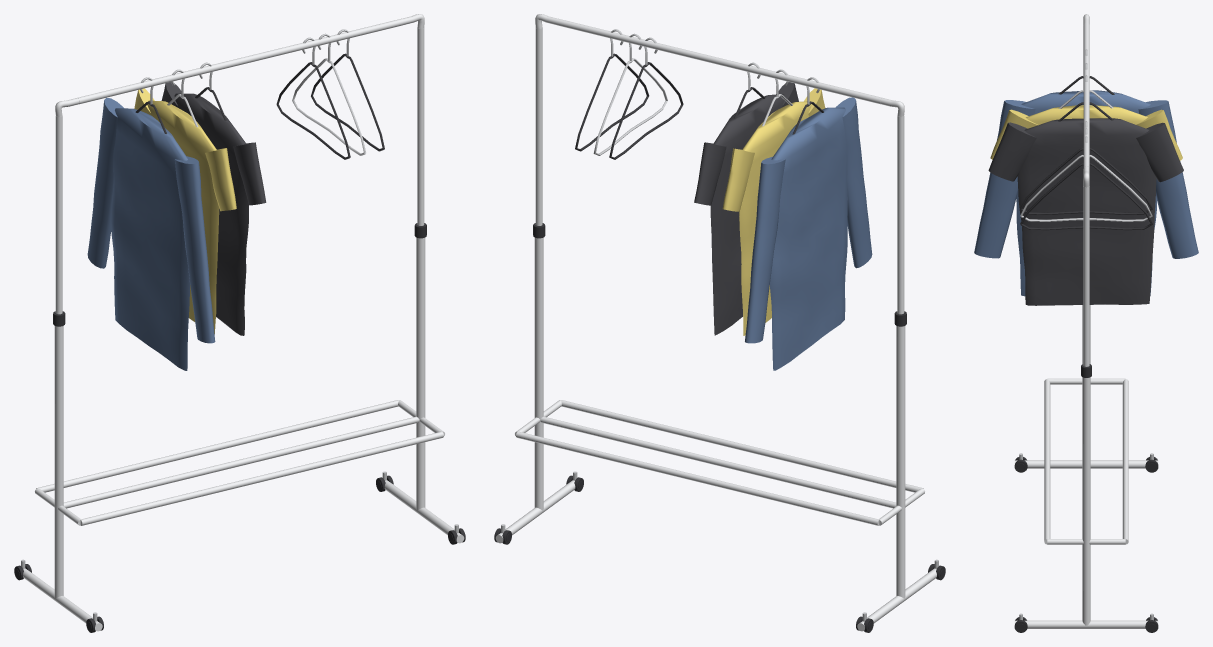
The model's file is furniture_clothes_rail.fbx.
3 renders of one model, left to right at view 1: azimuth 30°, elevation 25°; view 2: azimuth 150°, elevation 25°; view 3: azimuth 270°, elevation 25°, orthographic. The views are drawn at different scales.
Visible parts, largest first — view 1: furniture_clothes_rail; view 2: furniture_clothes_rail; view 3: furniture_clothes_rail.
Boxes of the visible parts, box(x1,y1,x2,y2) form: furniture_clothes_rail: box(14, 14, 465, 632); furniture_clothes_rail: box(494, 14, 945, 632); furniture_clothes_rail: box(974, 14, 1198, 632).
Bounding box in the file's own units: 1.2 × 1.55 × 0.6874.
